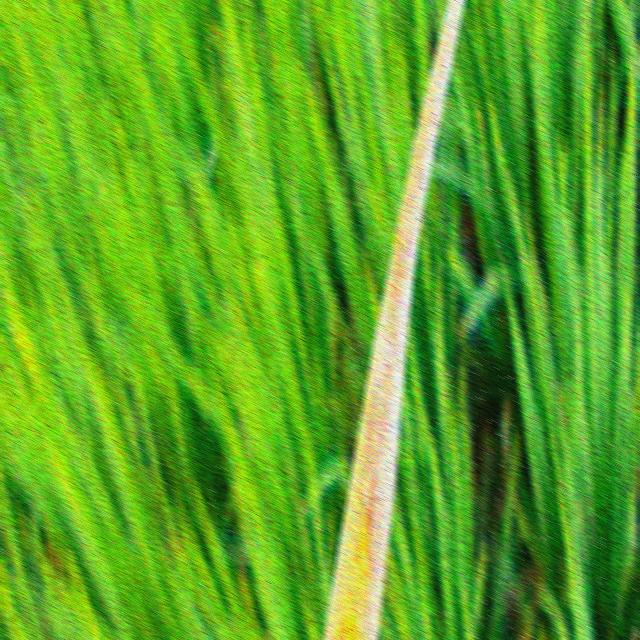BLB: (360, 0, 463, 640)
